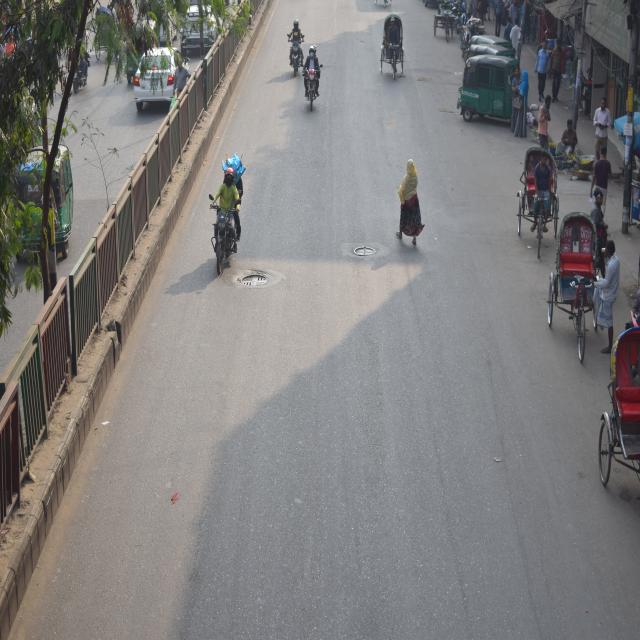car: (129, 33, 191, 117)
motorbike: (204, 171, 250, 291), (300, 53, 330, 110), (288, 22, 304, 78)
